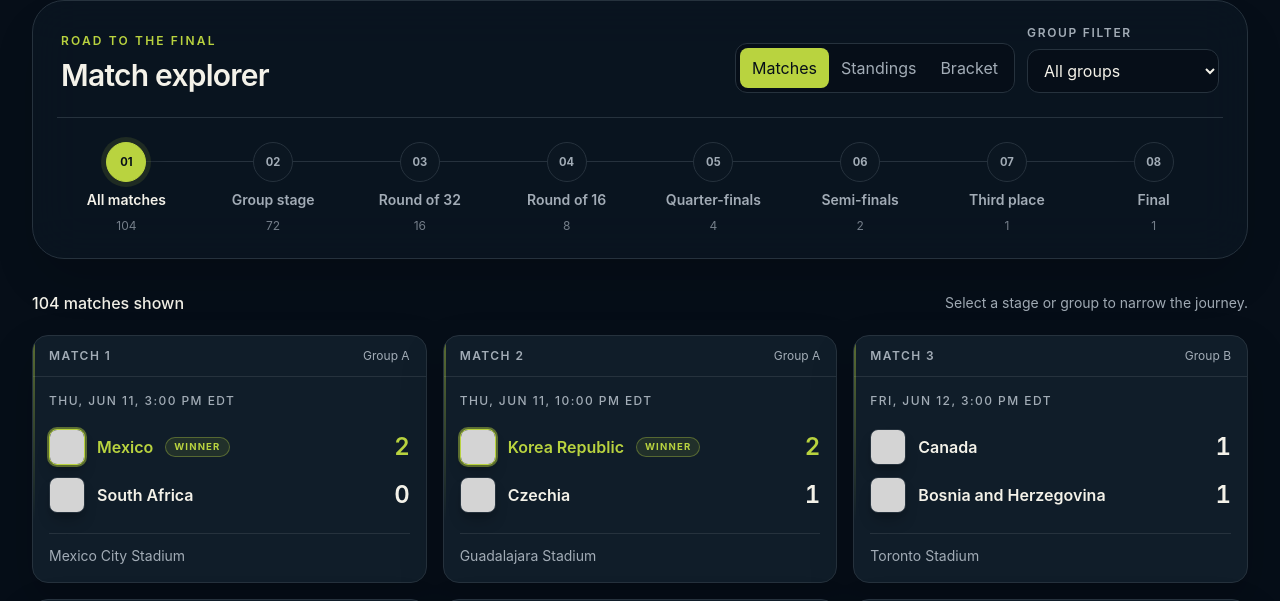
MatchExplorer › opens match details and restores focus when closed
The image size is (1280, 601).
Click the button with aria-label "View details for Match 1: Mexico versus South Africa" at (229, 459), box [33, 336, 426, 582]
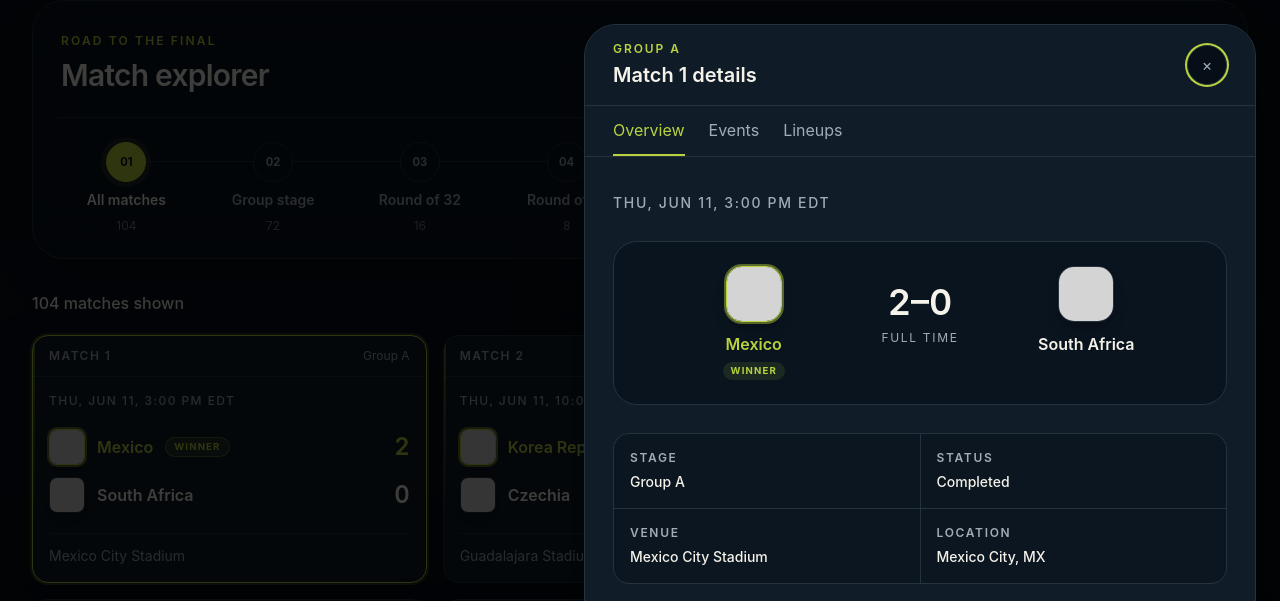
Result: the button with aria-label "View details for Match 1: Mexico versus South Africa" is expanded at [33, 336, 426, 582]
Result: the text "Mexico City Stadium" is shown at [630, 548, 768, 565]
Result: the text "Mexico City, MX" is shown at [936, 548, 1046, 565]
Click the button named "Close match details" at (1207, 65), box [1187, 45, 1227, 85]
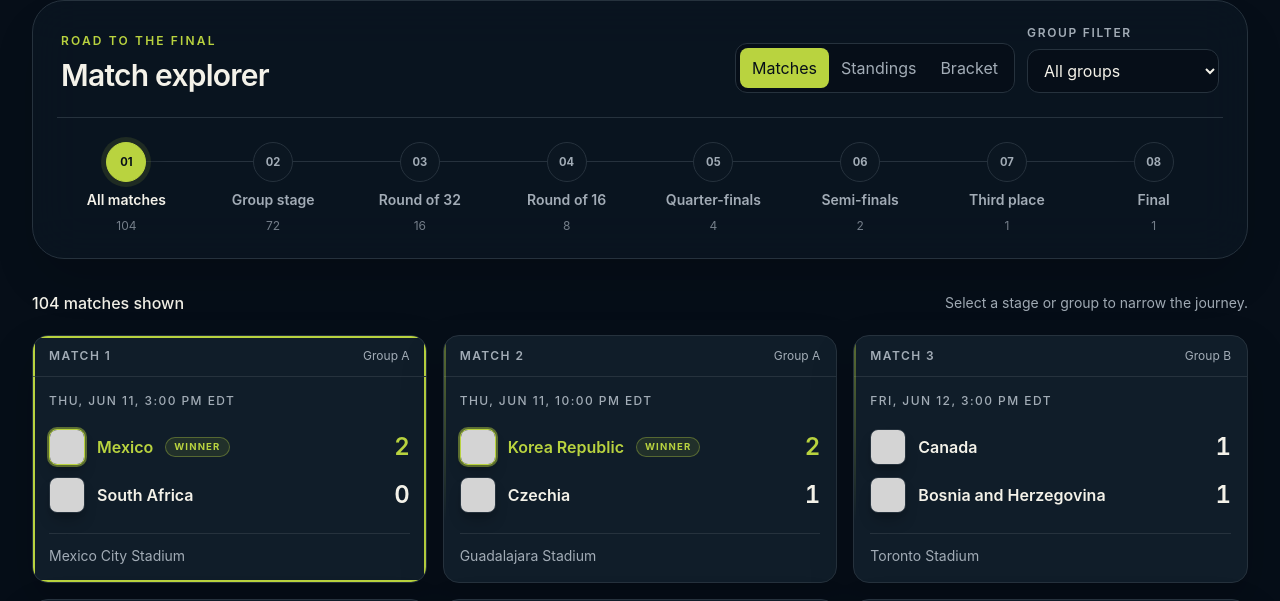
Result: the button with aria-label "View details for Match 1: Mexico versus South Africa" is collapsed at [33, 336, 426, 582]
